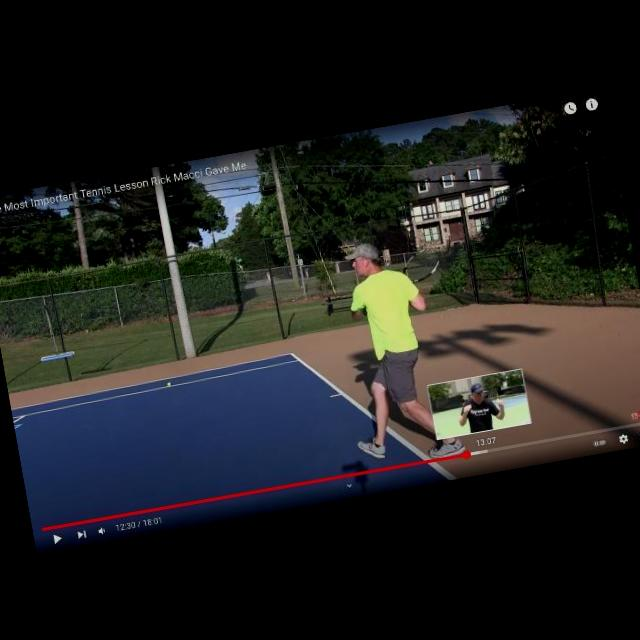Tennis Ball: (166, 380, 171, 386)
